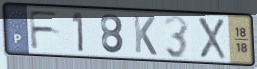1: (71, 11, 86, 54)
3: (163, 14, 193, 61)
8: (99, 13, 125, 55)
F: (27, 9, 62, 51)
K: (132, 14, 159, 57)
X: (195, 16, 228, 62)
